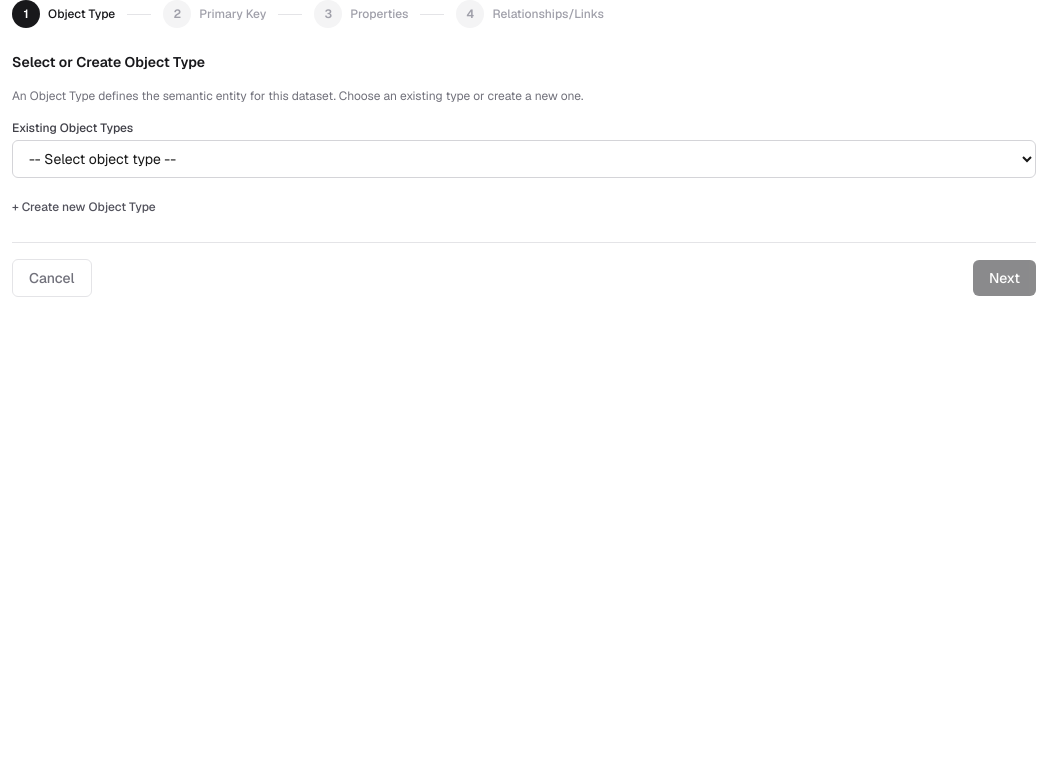
it: EntityMappingWizard › Step 1: Object Type › opens inline edit form when 'Edit display name' is clicked
This screenshot has width=1048, height=768.
Expected: the heading "Select or Create Object Type" is shown, [12, 53, 205, 71]
Select "Employee (employee)" in the dropdown at (524, 159), box [12, 140, 1036, 178]
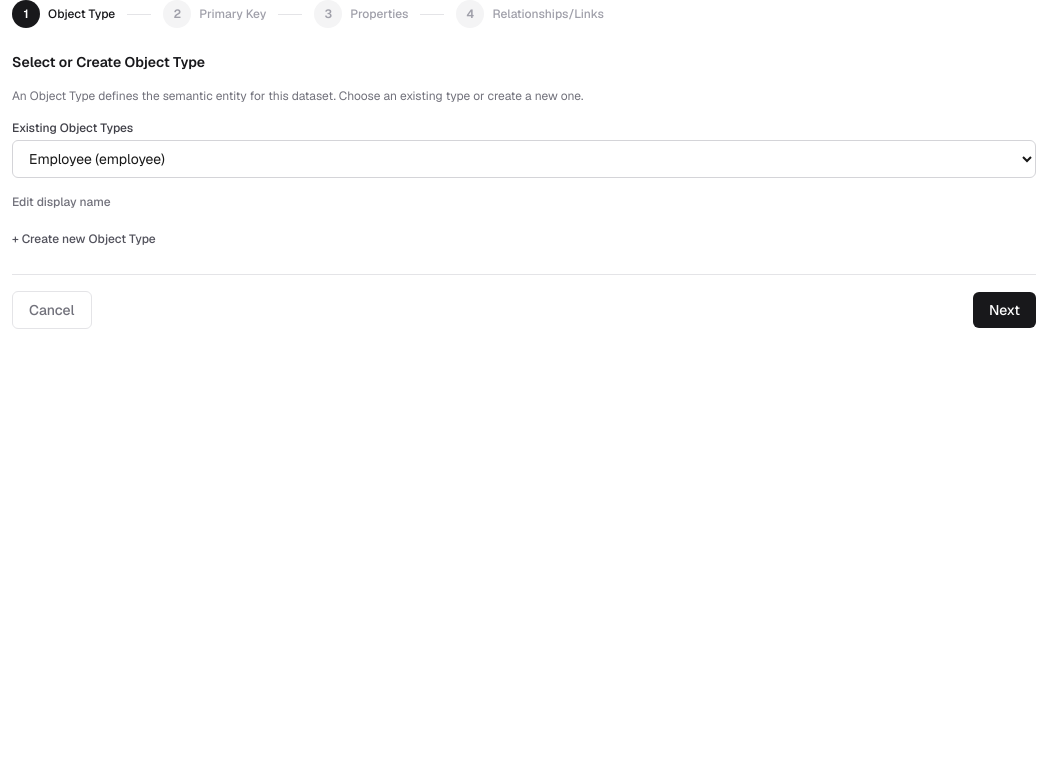
Result: the button "Edit display name" is shown
Click the button "Edit display name" at (61, 202), box [12, 194, 111, 210]
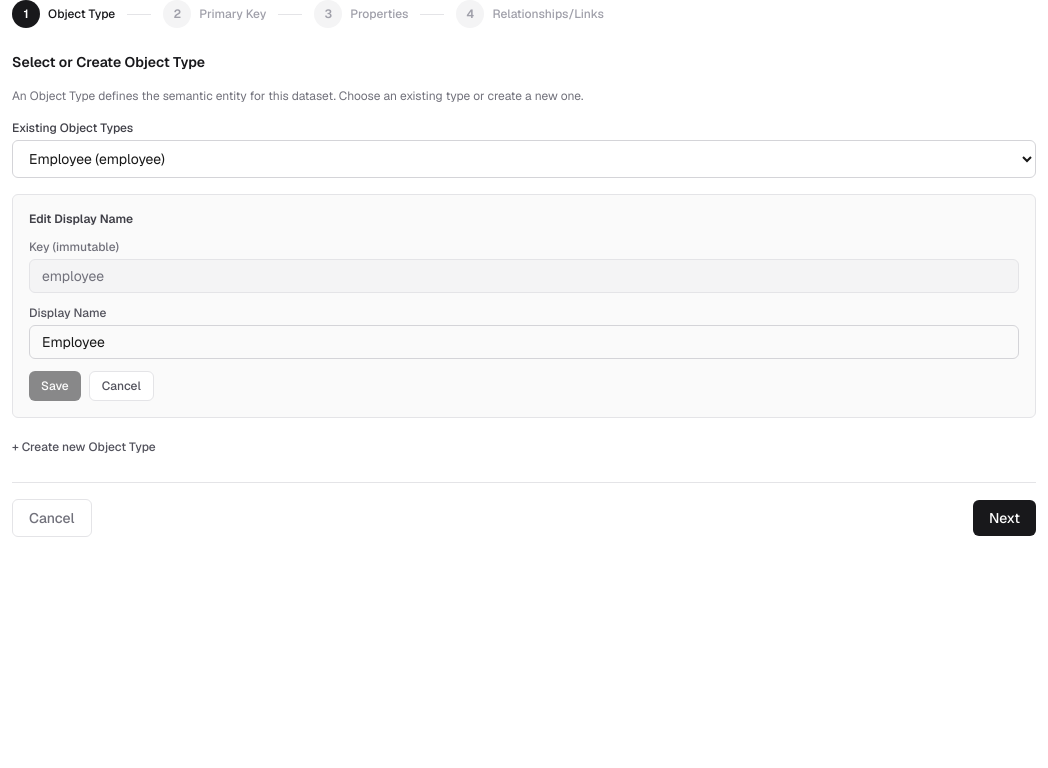
Result: the heading "Edit Display Name" is shown at [29, 211, 133, 227]
Result: the field showing "employee" below "Key (immutable)" is shown at [29, 259, 1019, 293]
Result: the 2nd field showing "Employee" is shown at [29, 325, 1019, 359]
